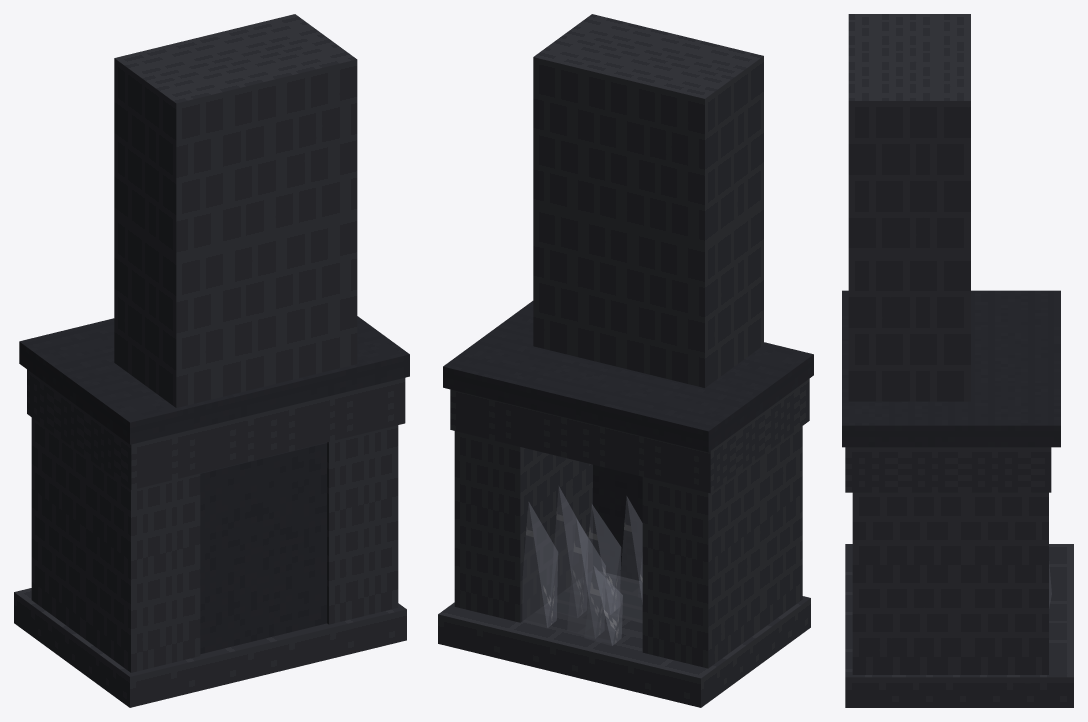
File: f_vitrified_fireplace.glb
3 views of the same model, side by side, from view 1: azimuth 30°, elevation 25°; view 2: azimuth 150°, elevation 25°; view 3: azimuth 270°, elevation 25° (orthographic). The views are drawn at different scales.
Parts seen in each view (by area): view 1: block_chimney, block_pier--0.35, block_firebox-back, block_lintel, block_mantel, block_hearth, block_pier-0.35; view 2: block_chimney, block_pier--0.35, block_mantel, block_pier-0.35, block_hearth, block_translucent-frozen-flame (×6), block_lintel, block_firebox-back; view 3: block_chimney, block_pier-0.35, block_mantel, block_hearth, block_lintel.
Part boxes in pixels (x1=…): block_chimney: x1=114, y1=14, x2=357, y2=407; block_pier--0.35: x1=31, y1=417, x2=200, y2=672; block_firebox-back: x1=200, y1=442, x2=326, y2=654; block_lintel: x1=27, y1=369, x2=405, y2=489; block_mantel: x1=19, y1=316, x2=409, y2=444; block_hearth: x1=14, y1=588, x2=406, y2=707; block_pier-0.35: x1=327, y1=425, x2=398, y2=624; block_chimney: x1=533, y1=14, x2=763, y2=387; block_pier--0.35: x1=642, y1=426, x2=802, y2=668; block_mantel: x1=443, y1=301, x2=813, y2=452; block_pier-0.35: x1=454, y1=431, x2=592, y2=622; block_hearth: x1=438, y1=570, x2=810, y2=707; block_translucent-frozen-flame (×6): x1=522, y1=486, x2=642, y2=645; block_lintel: x1=450, y1=379, x2=809, y2=493; block_firebox-back: x1=593, y1=464, x2=642, y2=580; block_chimney: x1=848, y1=14, x2=970, y2=401; block_pier-0.35: x1=852, y1=492, x2=1048, y2=674; block_mantel: x1=842, y1=290, x2=1060, y2=447; block_hearth: x1=845, y1=544, x2=1073, y2=707; block_lintel: x1=845, y1=447, x2=1051, y2=492.
Size of the model in its own units: 0.99 by 2 by 0.72.
2 materials, 2 textured.
